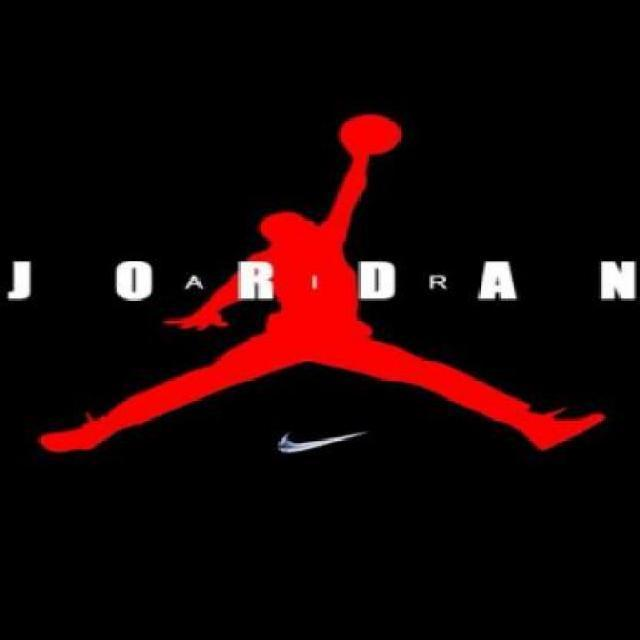Nike: (263, 420, 371, 457)
